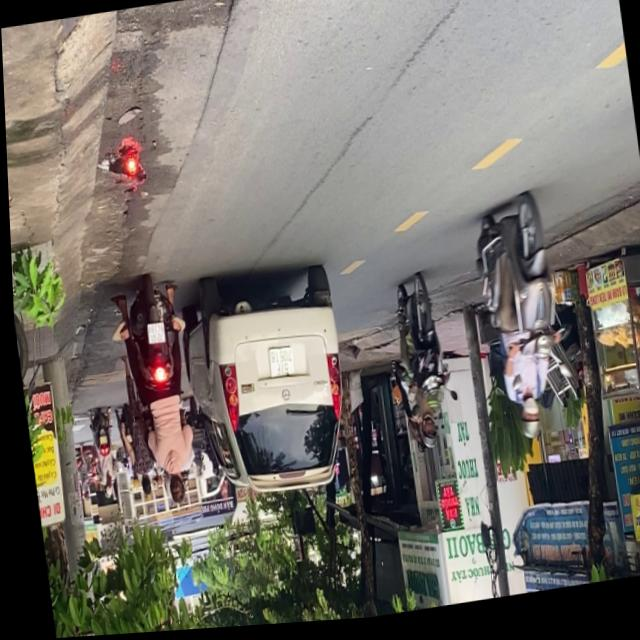helmet: (512, 401, 539, 446), (415, 421, 435, 455)
licenseplate: (462, 195, 572, 453), (105, 272, 202, 516), (383, 275, 454, 460)
motorcyclist: (160, 472, 182, 507)
nohelmet: (142, 323, 162, 347)
